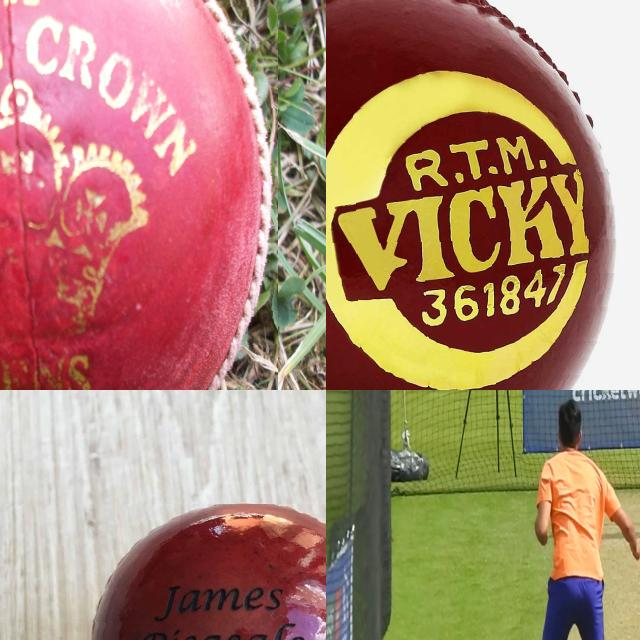Cricket ball: (326, 0, 627, 390), (0, 0, 278, 390), (78, 504, 326, 640), (599, 390, 612, 398)
